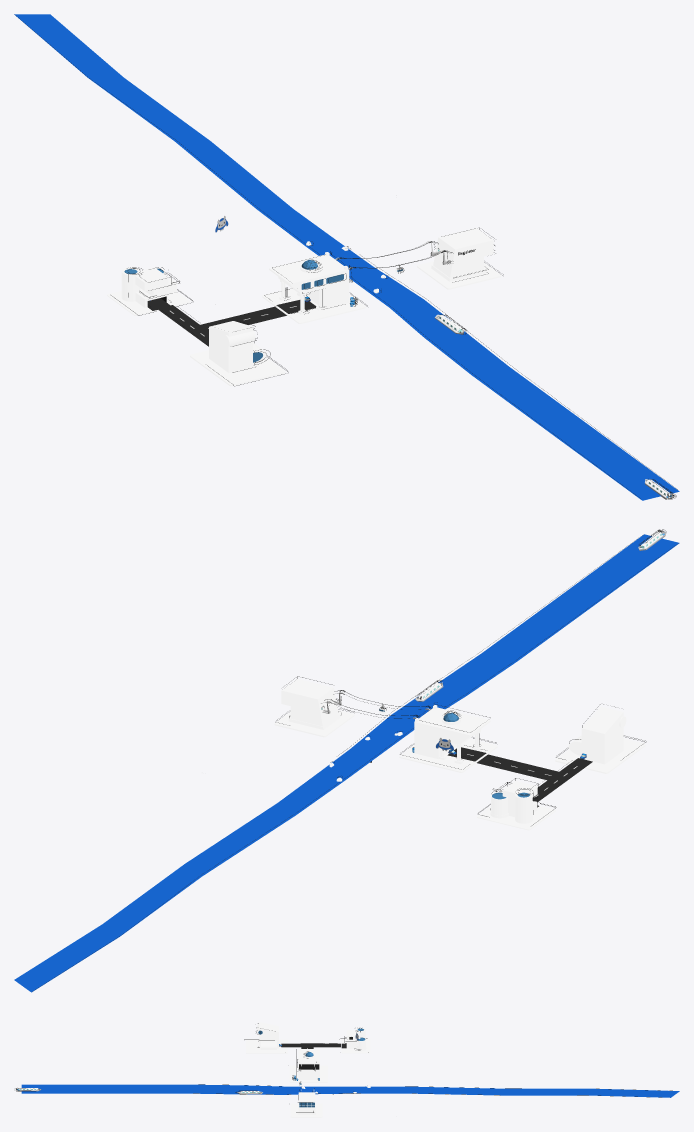
3 views of the same model, one above another, from view 1: azimuth 30°, elevation 25°; view 2: azimuth 150°, elevation 25°; view 3: azimuth 270°, elevation 25° (orthographic). The views are drawn at different scales.
Parts seen in each view (by area): view 1: Plane.006, Cube.001, Cube.002, Cube, Plane.007, Plane.008, GP_Layer.002, Plane.009, Plane.005, Plane.001; view 2: Plane.006, Cube.001, Cube.002, Cube, Plane.008, Plane.007, Plane.001, GP_Layer.002, Plane.005, Plane.009, Plane; view 3: Plane.006, Cube.001, Cube.002, Plane.007, Plane.008, GP_Layer.002, Cube, Plane.005, Plane.009, Plane.
Part boxes in pixels (x1=…): Plane.006: x1=14, y1=14, x2=679, y2=500; Cube.001: x1=269, y1=254, x2=349, y2=308; Cube.002: x1=431, y1=228, x2=493, y2=281; Cube: x1=209, y1=321, x2=252, y2=372; Plane.007: x1=190, y1=350, x2=285, y2=386; Plane.008: x1=262, y1=288, x2=365, y2=323; GP_Layer.002: x1=16, y1=16, x2=677, y2=498; Plane.009: x1=417, y1=261, x2=501, y2=289; Plane.005: x1=157, y1=305, x2=208, y2=346; Plane.001: x1=200, y1=306, x2=286, y2=331; Plane.006: x1=14, y1=534, x2=679, y2=992; Cube.001: x1=414, y1=707, x2=490, y2=758; Cube.002: x1=281, y1=679, x2=340, y2=729; Cube: x1=581, y1=706, x2=623, y2=764; Plane.008: x1=399, y1=739, x2=497, y2=772; Plane.007: x1=555, y1=738, x2=645, y2=773; Plane.001: x1=477, y1=754, x2=558, y2=780; GP_Layer.002: x1=32, y1=535, x2=678, y2=991; Plane.005: x1=532, y1=758, x2=592, y2=802; Plane.009: x1=274, y1=710, x2=354, y2=737; Plane: x1=477, y1=806, x2=555, y2=830; Plane.006: x1=21, y1=1084, x2=679, y2=1097; Cube.001: x1=298, y1=1049, x2=319, y2=1079; Cube.002: x1=297, y1=1092, x2=315, y2=1114; Plane.007: x1=246, y1=1039, x2=287, y2=1053; Plane.008: x1=289, y1=1065, x2=327, y2=1082; GP_Layer.002: x1=193, y1=1043, x2=672, y2=1112; Cube: x1=259, y1=1022, x2=278, y2=1048; Plane.005: x1=281, y1=1043, x2=340, y2=1047; Plane.009: x1=290, y1=1103, x2=322, y2=1117; Plane: x1=341, y1=1039, x2=370, y2=1053.
Size of the model in its own units: 4.97 by 1.03 by 17.85.
54 materials, 1 textured.
